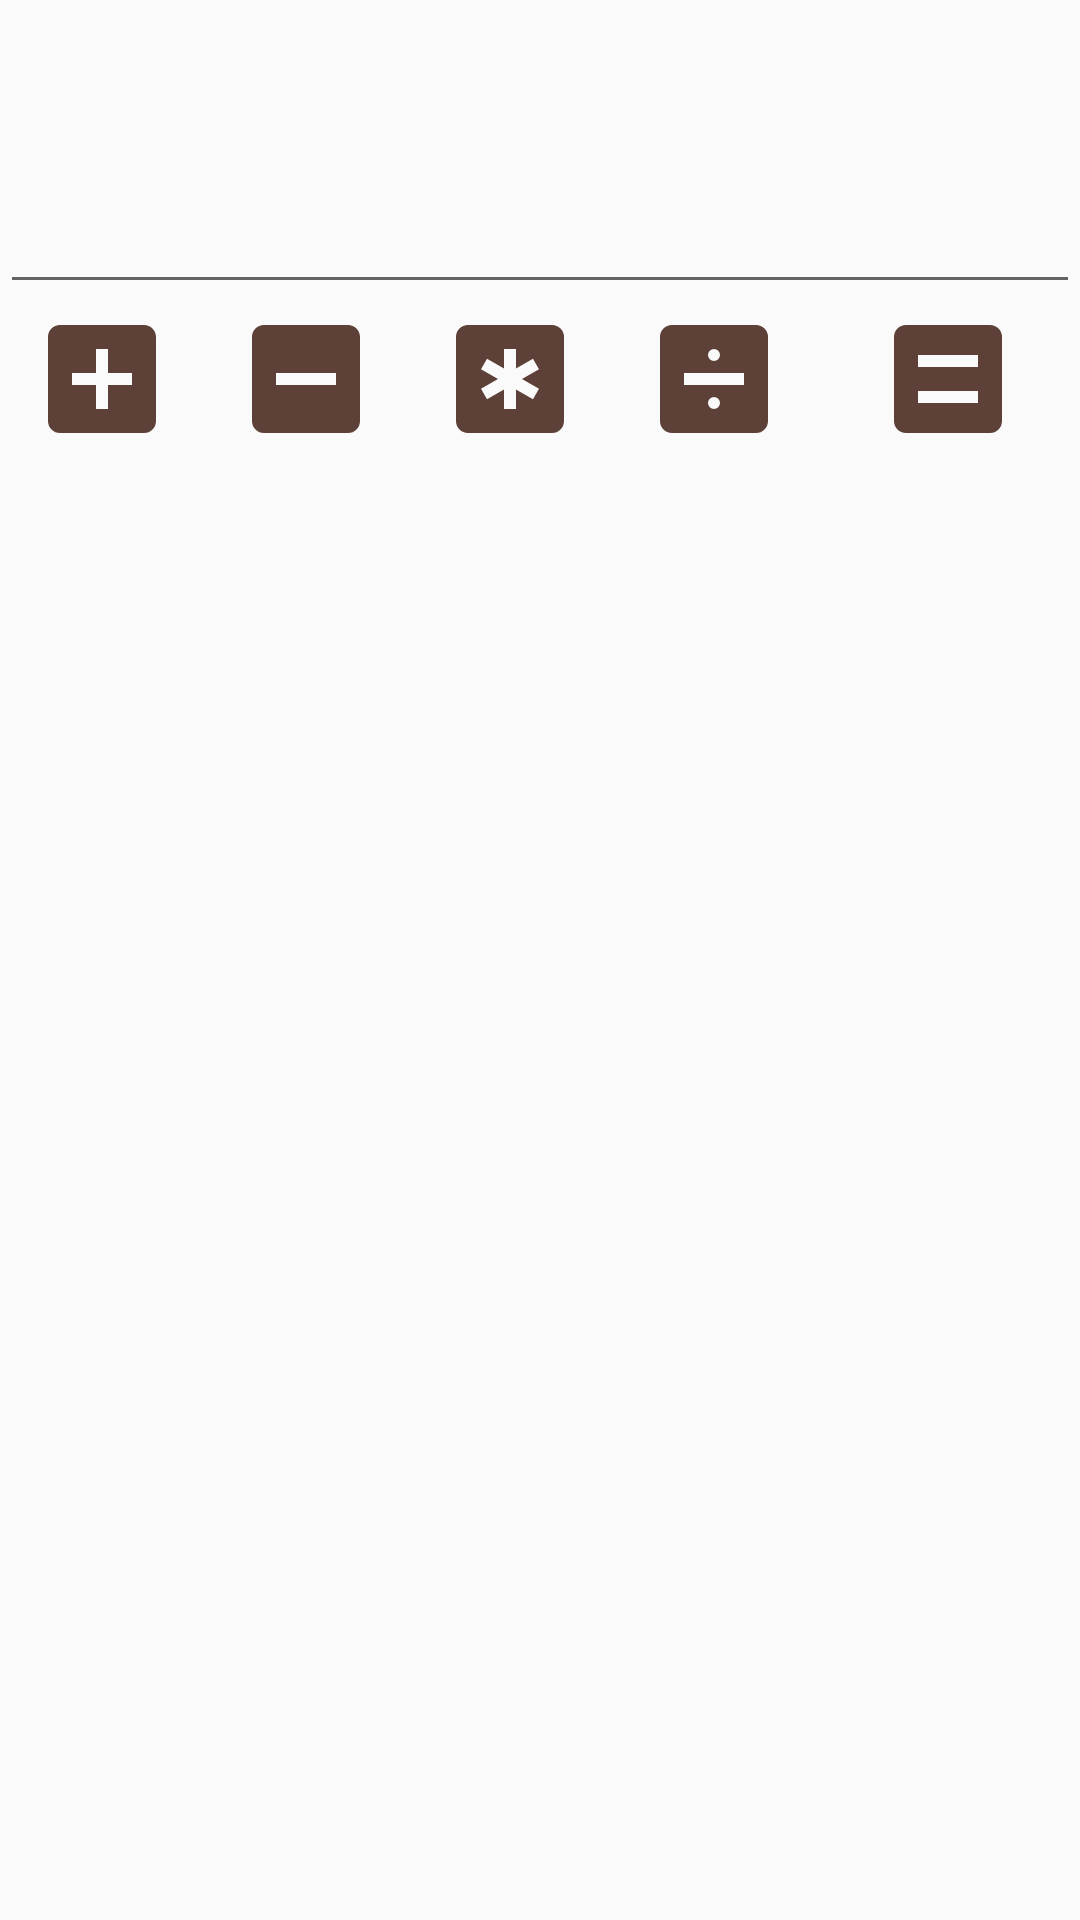

Icons on this 1080×1920 Android screen, each with its box as [x1,y1,x2,y2]:
division box: [660,325,768,433]
equal box: [894,325,1002,433]
minus box: [252,325,360,433]
multiplication box: [456,325,564,433]
plus box: [48,325,156,433]
